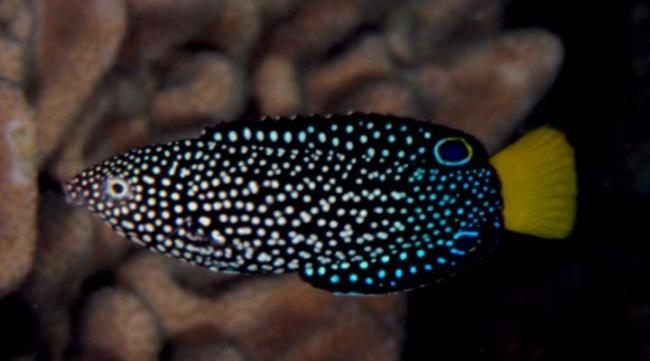fish: (64, 112, 577, 296)
